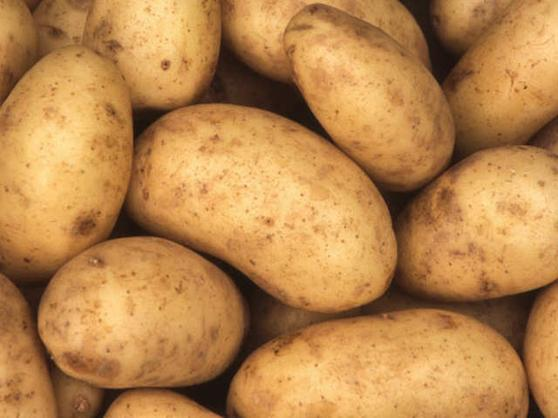potato: (128, 97, 399, 310), (39, 236, 247, 387)
